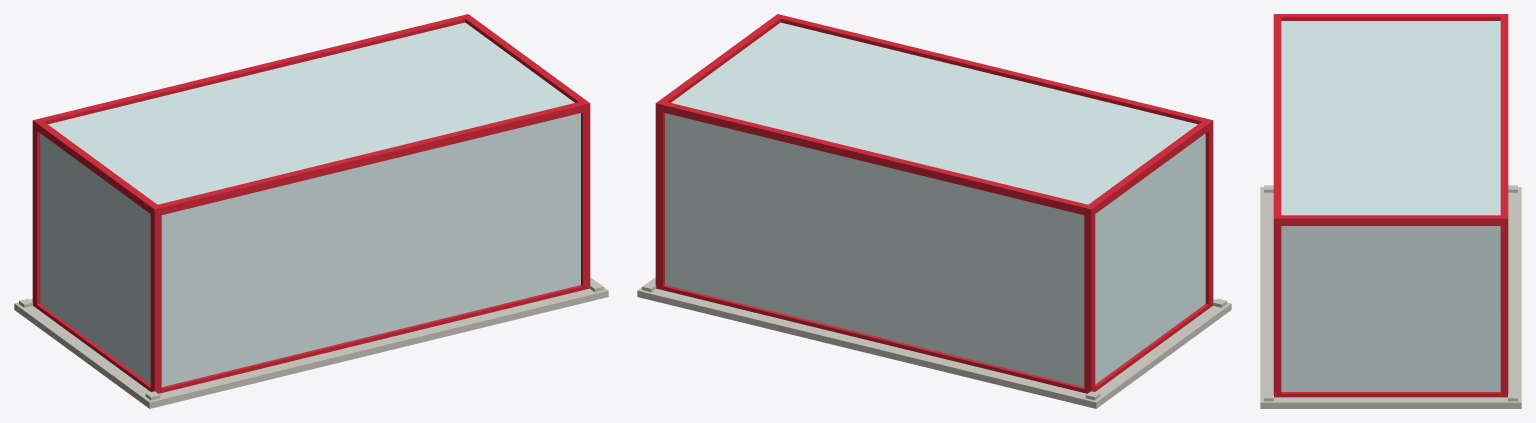
The model's file is ford-raptor-f150.glb.
3 renders of one model, left to right at view 1: azimuth 30°, elevation 25°; view 2: azimuth 150°, elevation 25°; view 3: azimuth 270°, elevation 25°, orthographic. The views are drawn at different scales.
Size of the model in its own units: 0.45 by 0.1795 by 0.23.
